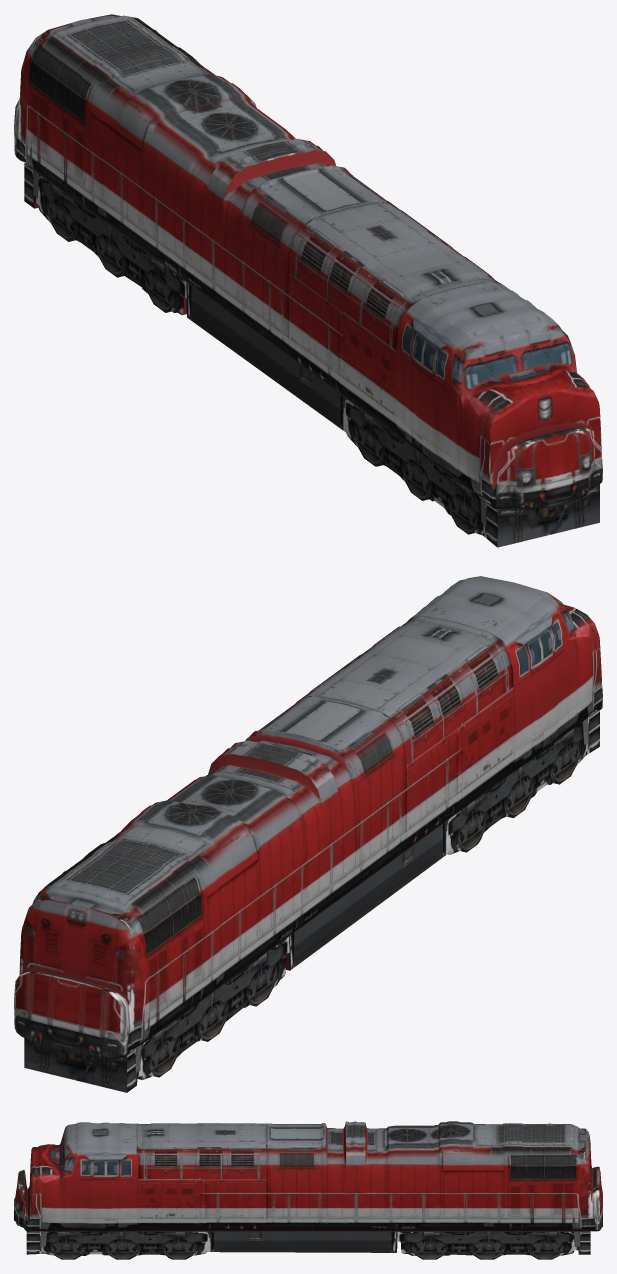
The model's file is tr_loco_cp.glb.
The picture shows the model from 3 angles, top to bottom: view 1: azimuth 30°, elevation 25°; view 2: azimuth 150°, elevation 25°; view 3: azimuth 270°, elevation 25°; orthographic projection. The views are drawn at different scales.
Parts seen in each view (by area): view 1: body; view 2: body; view 3: body.
Part boxes in pixels (x1=…): body: x1=14, y1=14, x2=602, y2=547; body: x1=14, y1=576, x2=602, y2=1092; body: x1=14, y1=1121, x2=602, y2=1259.
Bounding box in the file's own units: 3.1 × 4.65 × 21.7.
1 material, 1 textured.
